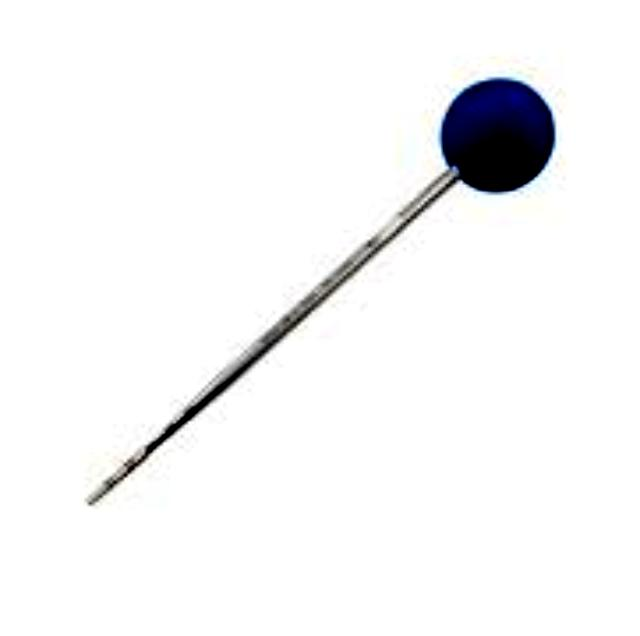ice pick: (89, 78, 562, 512)
